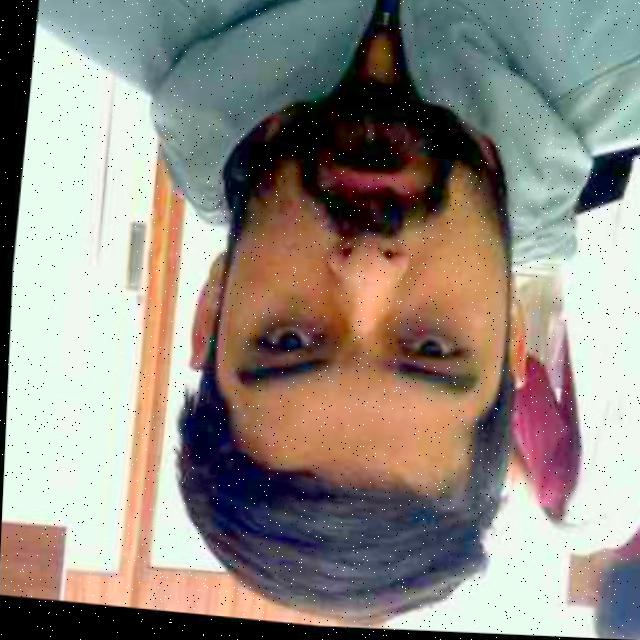puffy_eyes: (256, 301, 327, 336), (393, 309, 460, 340)
